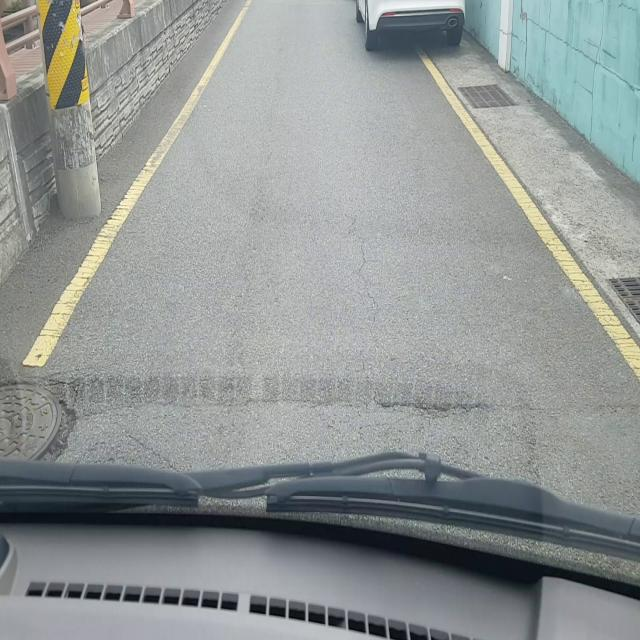Pothole: (0, 377, 78, 465)
